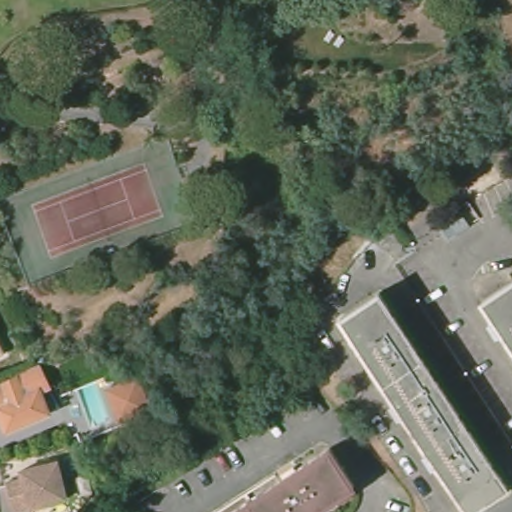pool: (73, 383, 118, 428)
